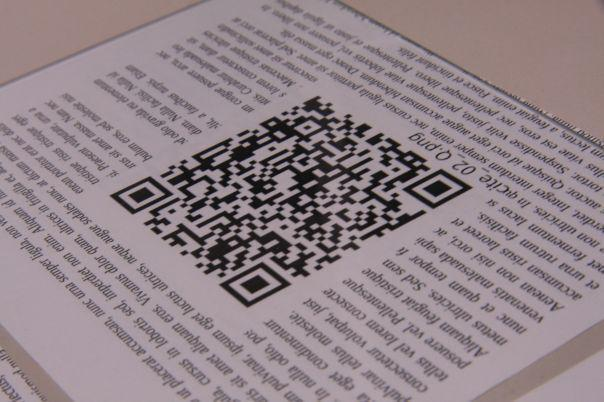qr_code: (109, 95, 473, 308)
